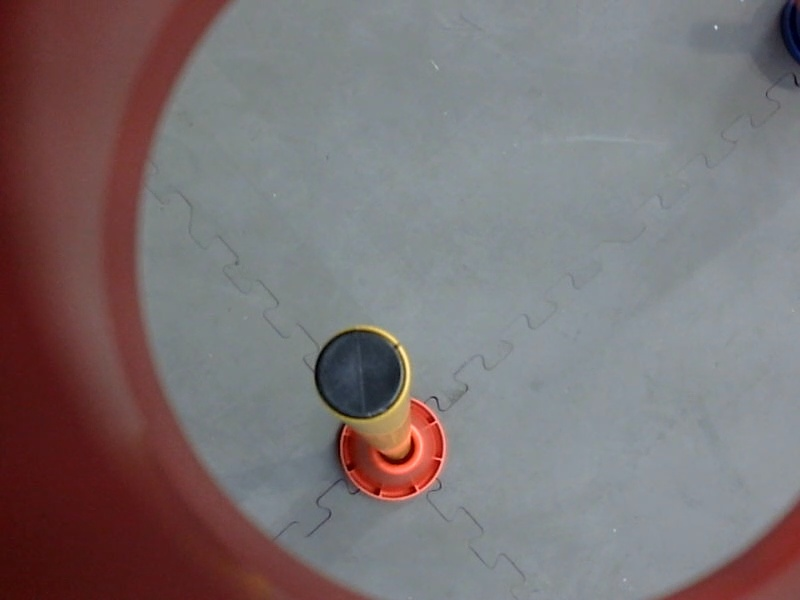tip: (297, 320, 419, 427)
